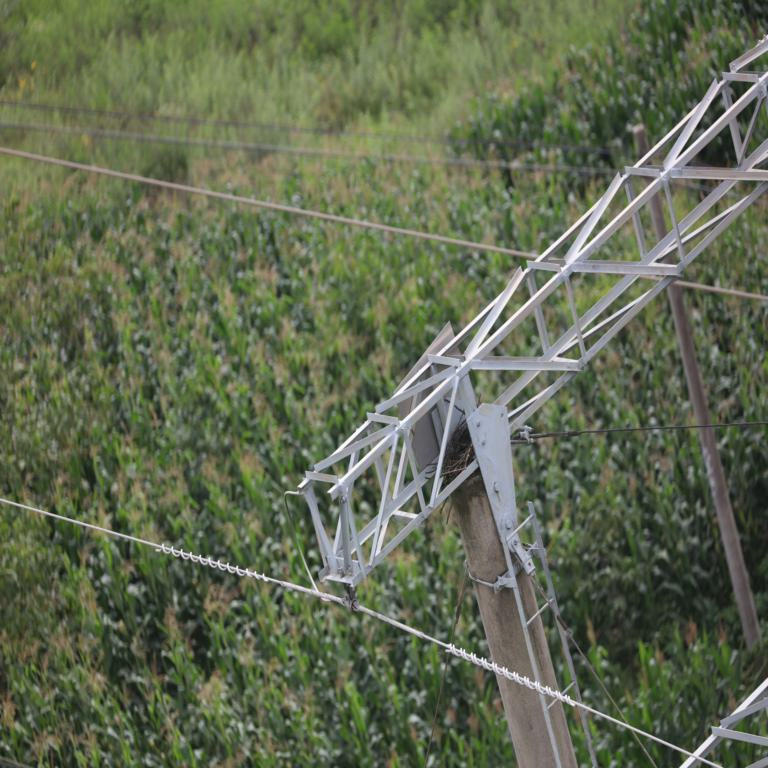nest: (440, 422, 494, 496)
